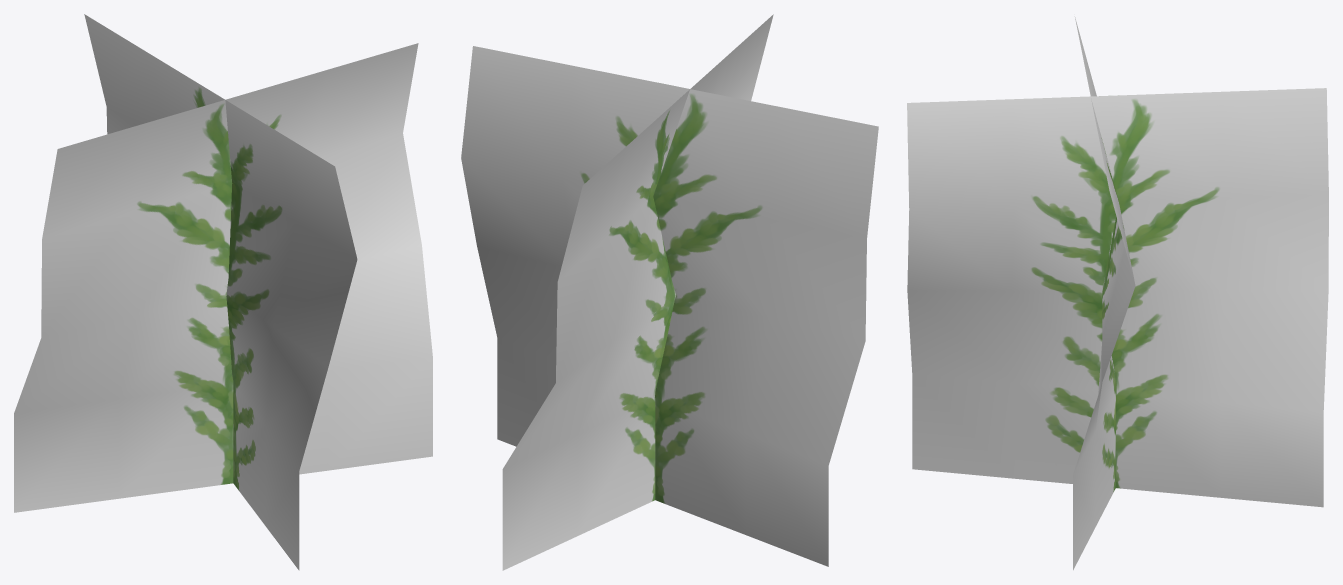
The model's file is Kelp2.fbx.
3 views of the same model, side by side, from view 1: azimuth 30°, elevation 25°; view 2: azimuth 150°, elevation 25°; view 3: azimuth 270°, elevation 25° (orthographic). The views are drawn at different scales.
Parts seen in each view (by area): view 1: Plane_1, Plane; view 2: Plane_1, Plane; view 3: Plane, Plane_1.
Boxes of the visible parts, x1,y1,x2,y2 form: Plane_1: (14,43,432,512); Plane: (84,14,357,570); Plane_1: (461,46,878,566); Plane: (502,14,773,570); Plane: (907,88,1328,507); Plane_1: (1073,16,1135,570).
Bounding box in the file's own units: 401 × 400 × 401.
Materials: 1 (1 with a texture image).
